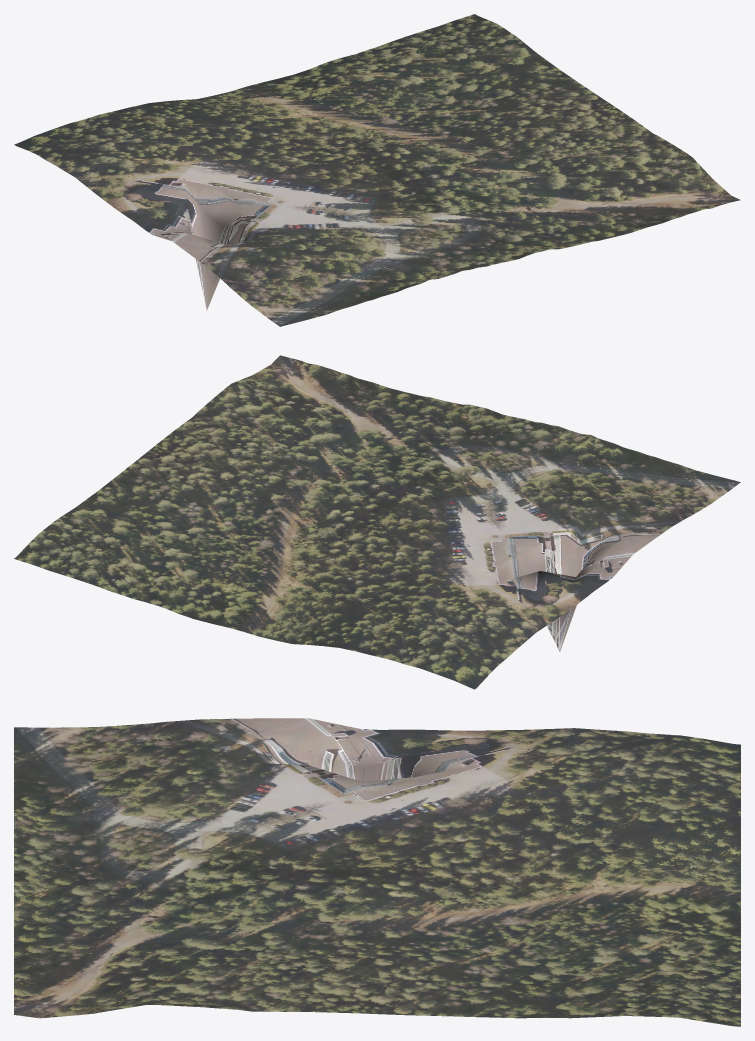
File: CM_Terrain_24489639_6822660.fbx
3 renders of one model, top to bottom at view 1: azimuth 30°, elevation 25°; view 2: azimuth 150°, elevation 25°; view 3: azimuth 270°, elevation 25°, orthographic. The views are drawn at different scales.
Visible parts, largest first — view 1: CM_Terrain_24489639_6822660_LOD0; view 2: CM_Terrain_24489639_6822660_LOD0; view 3: CM_Terrain_24489639_6822660_LOD0.
Boxes of the visible parts, x1,y1,x2,y2 form: CM_Terrain_24489639_6822660_LOD0: [14, 14, 740, 326]; CM_Terrain_24489639_6822660_LOD0: [14, 355, 740, 689]; CM_Terrain_24489639_6822660_LOD0: [14, 718, 740, 1026].
Size of what is drawn, in the model's own units: 205 by 47.51 by 205.
